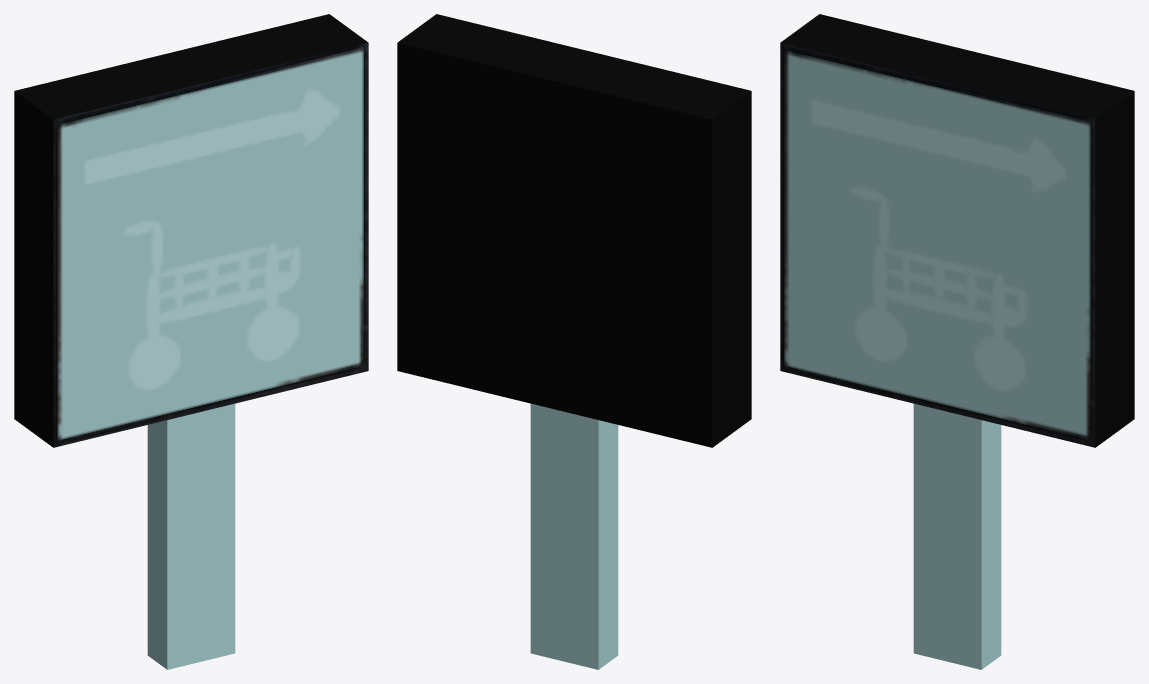
Rendered from SM_Hub_Sign_02.fbx.
3 renders of one model, left to right at view 1: azimuth 30°, elevation 25°; view 2: azimuth 150°, elevation 25°; view 3: azimuth 330°, elevation 25°, orthographic.
Parts seen in each view (by area): view 1: pasted__pasted__pCube2; view 2: pasted__pasted__pCube2; view 3: pasted__pasted__pCube2.
Part boxes in pixels (box(x1,y1,x2,y2)): pasted__pasted__pCube2: box(14, 14, 368, 669); pasted__pasted__pCube2: box(397, 14, 751, 669); pasted__pasted__pCube2: box(780, 14, 1134, 669).
Bounding box in the file's own units: 4.64 × 8.26 × 1.
